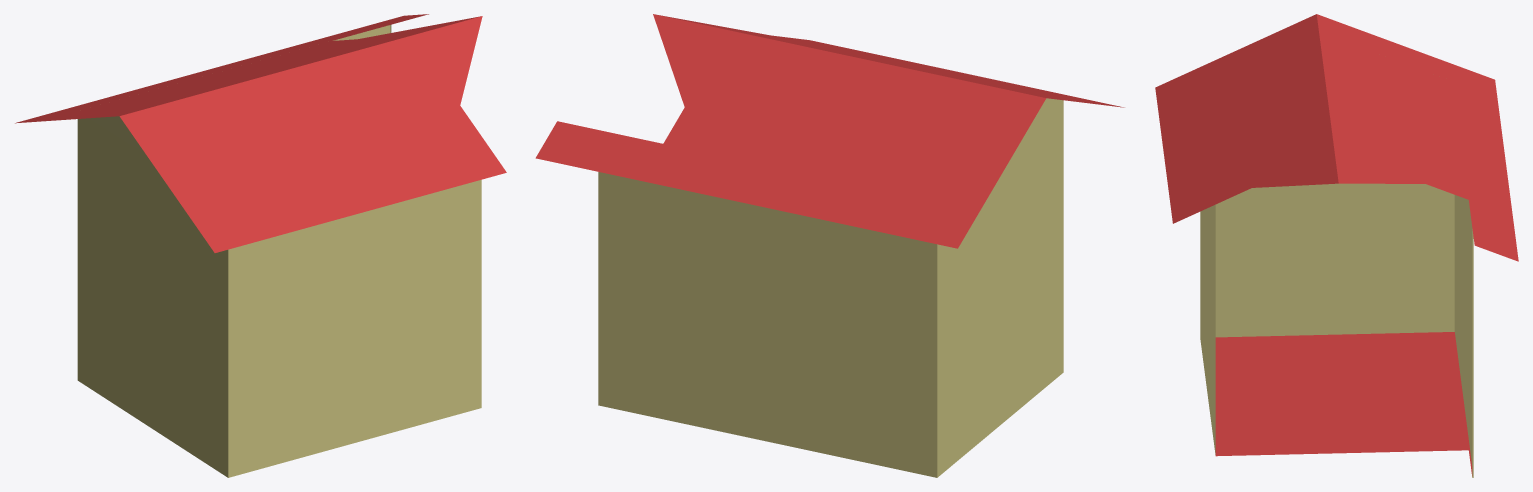
The picture shows the model from 3 angles, left to right: view 1: azimuth 30°, elevation 25°; view 2: azimuth 150°, elevation 25°; view 3: azimuth 270°, elevation 25°; orthographic projection. The views are drawn at different scales.
Bounding box in the file's own units: 15.21 × 12.76 × 11.74.
